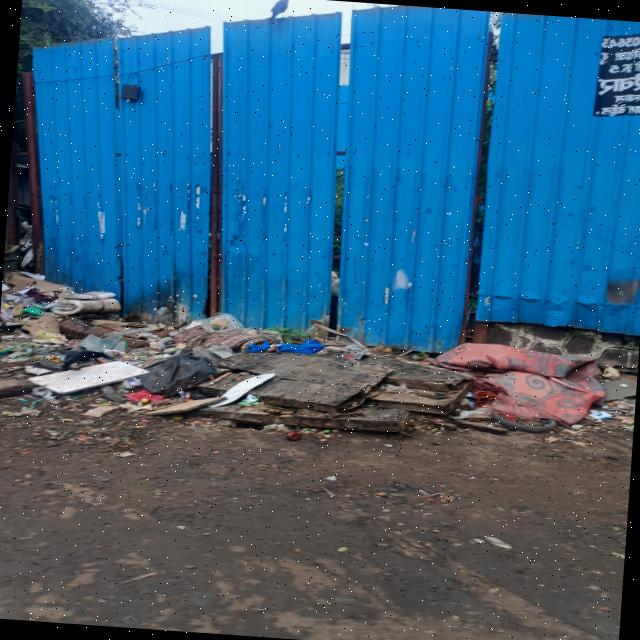garbage: (153, 311, 639, 461), (0, 276, 153, 426)
